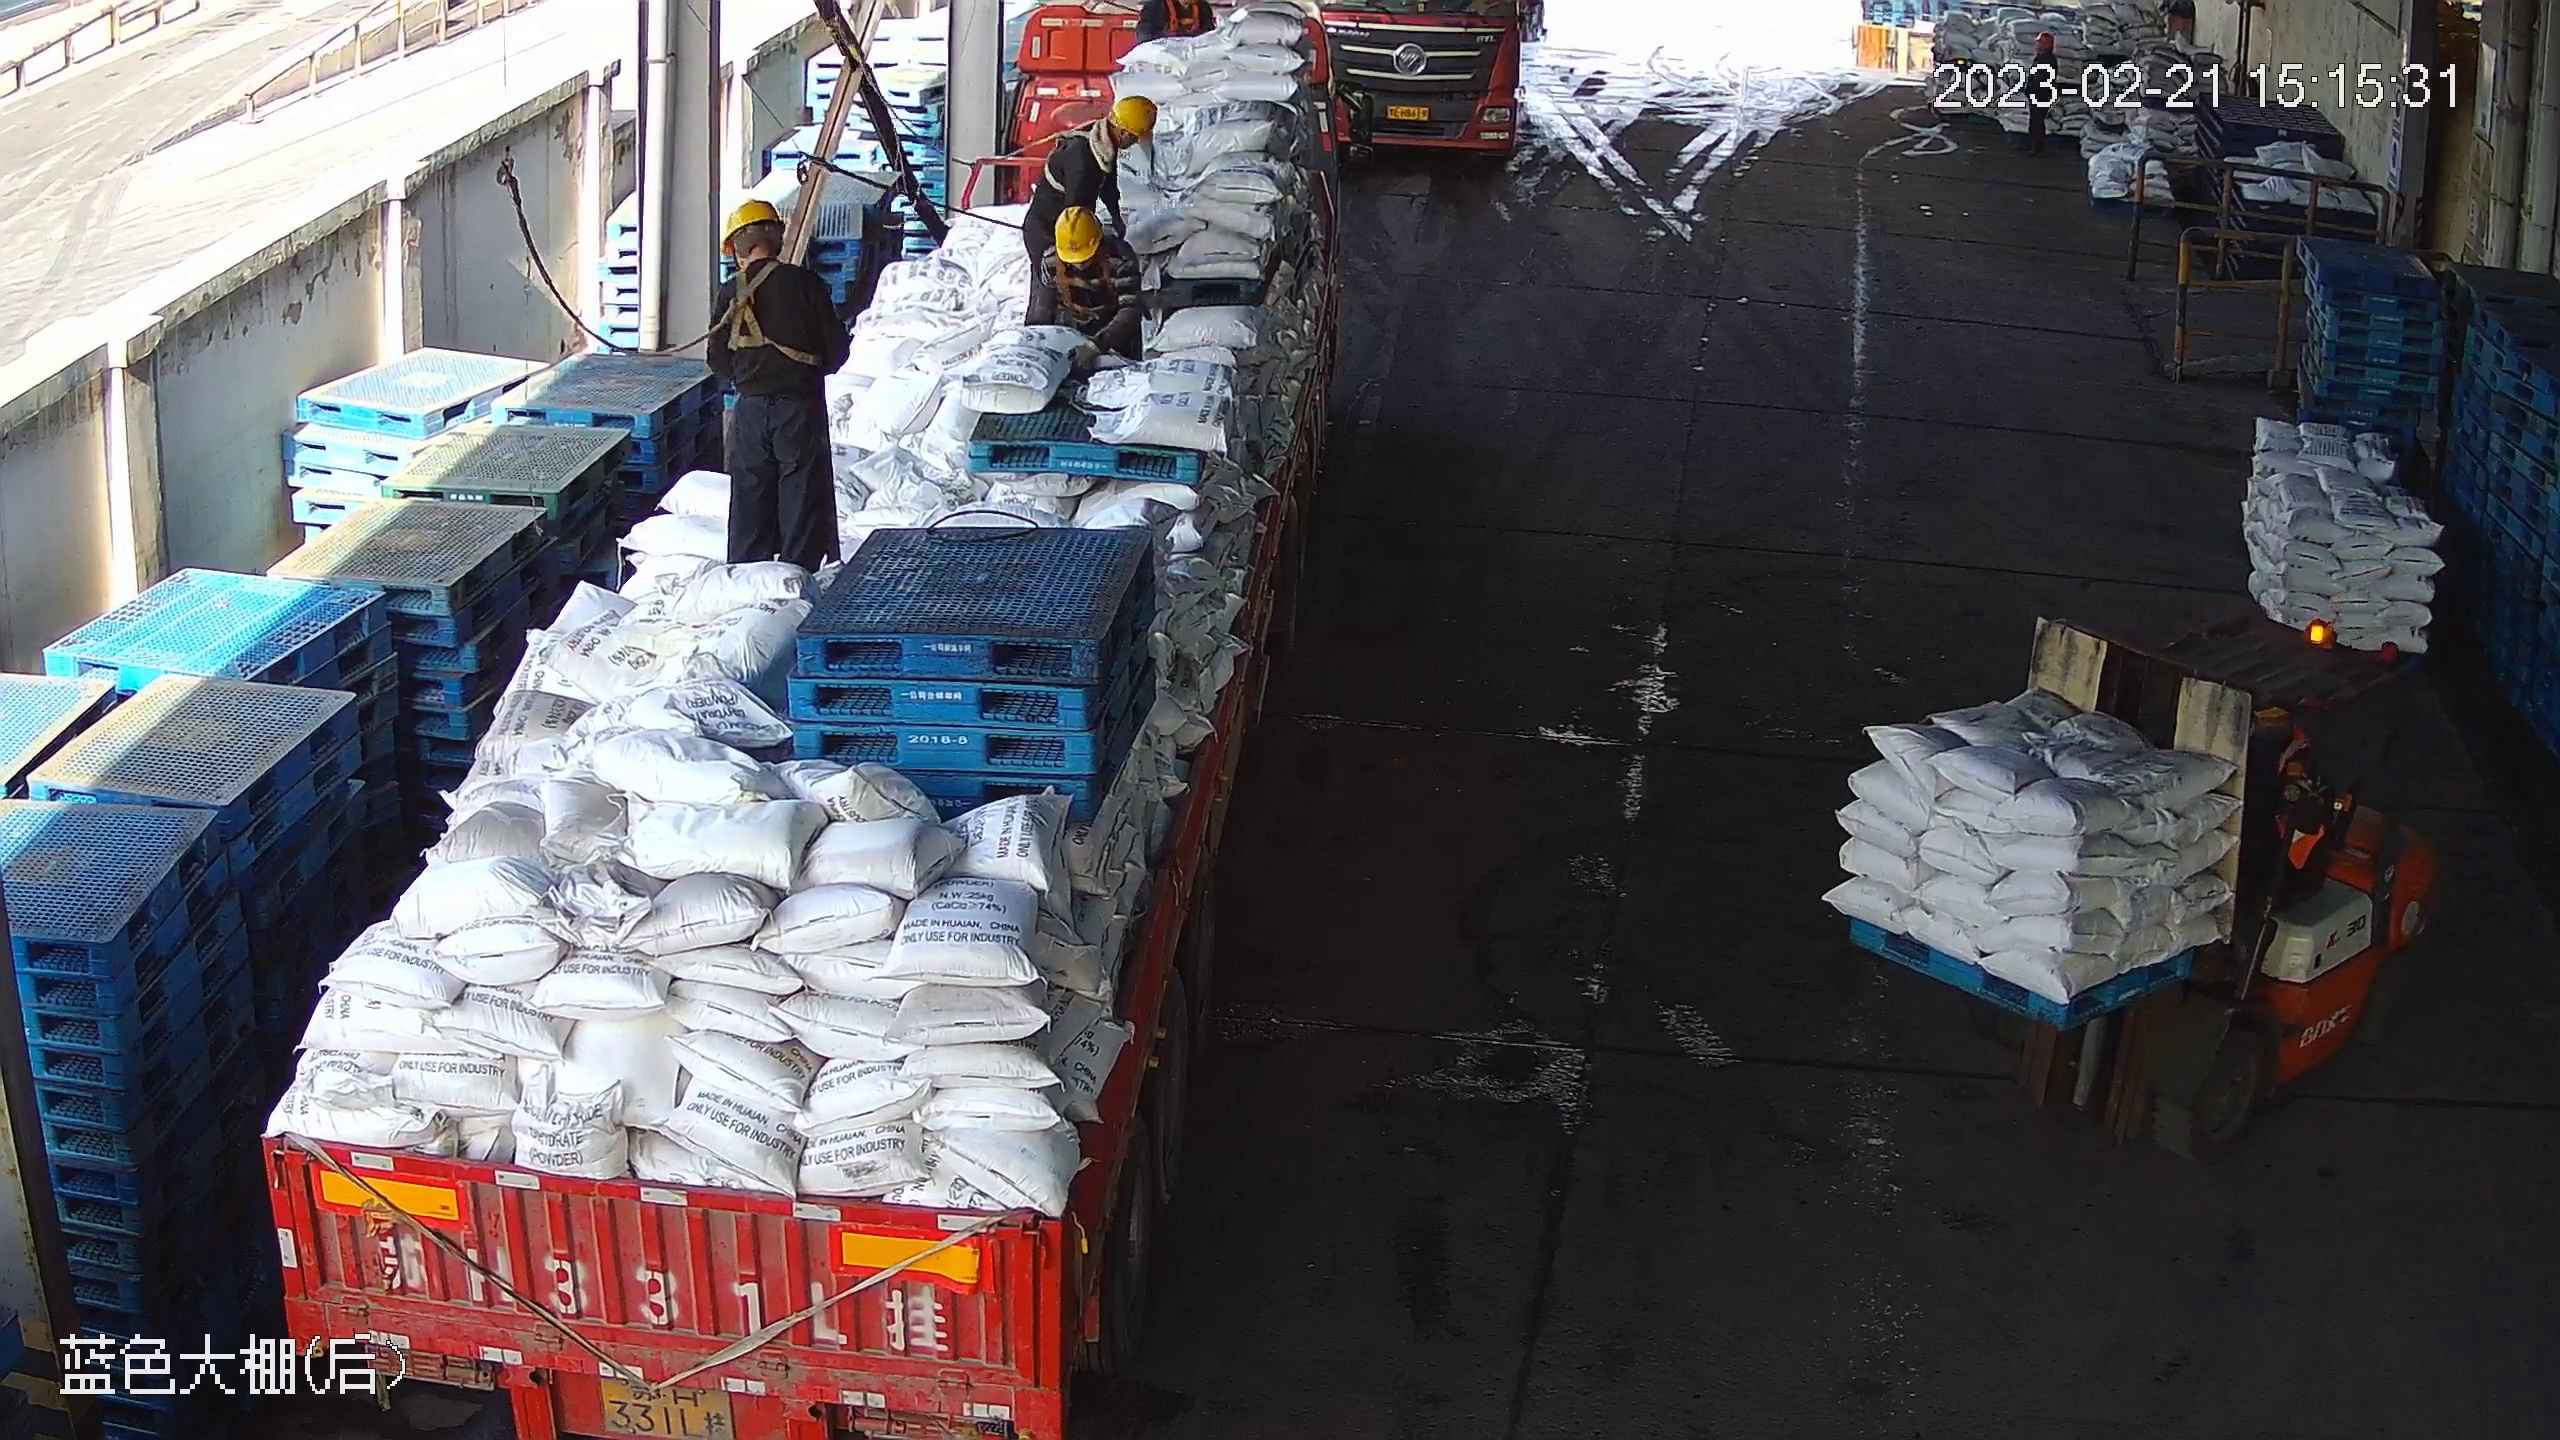belt: (720, 260, 822, 366), (1036, 123, 1125, 190), (1045, 256, 1134, 318)
head: (703, 197, 836, 327), (1036, 95, 1151, 190), (1029, 210, 1140, 305)
helmet: (714, 194, 779, 253), (1051, 210, 1111, 262), (1111, 95, 1168, 140)
people: (685, 197, 852, 584), (1025, 92, 1146, 345)
truck: (253, 7, 1340, 1440), (1305, 1, 1531, 184)
